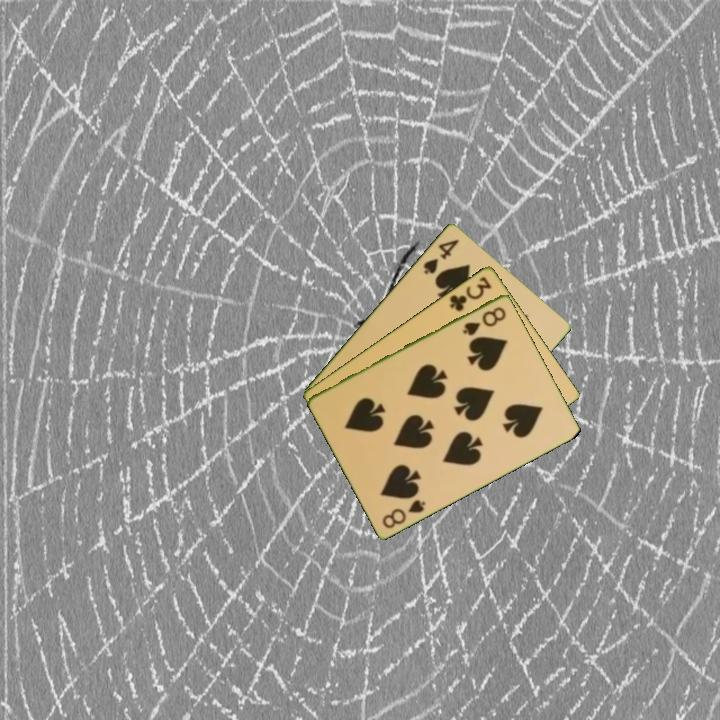3c: (446, 272, 495, 314)
4s: (420, 235, 462, 277)
8s: (379, 495, 429, 531), (460, 303, 509, 338)
